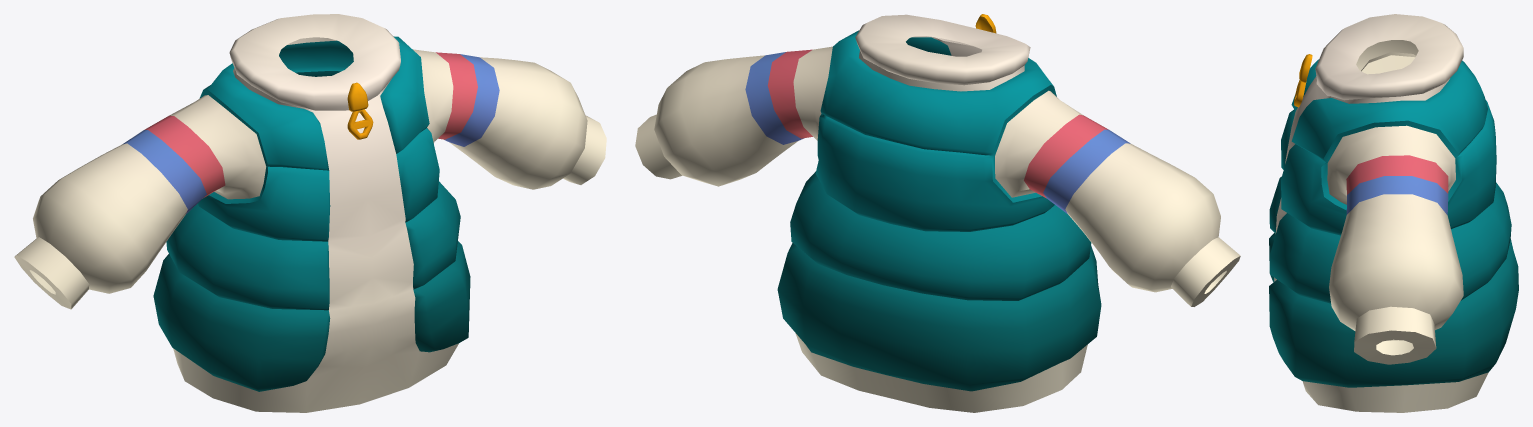
Rendered from Outwear_12.glb.
The picture shows the model from 3 angles, left to right: view 1: azimuth 30°, elevation 25°; view 2: azimuth 150°, elevation 25°; view 3: azimuth 270°, elevation 25°; orthographic projection. The views are drawn at different scales.
Parts seen in each view (by area): view 1: Outwear_12; view 2: Outwear_12; view 3: Outwear_12.
Part boxes in pixels (<box>): Outwear_12: <box>14,14,606,412</box>; Outwear_12: <box>635,14,1240,412</box>; Outwear_12: <box>1269,14,1518,412</box>.
Size of the model in its own units: 0.6302 by 0.3458 by 0.2418.
1 material, 1 textured.
